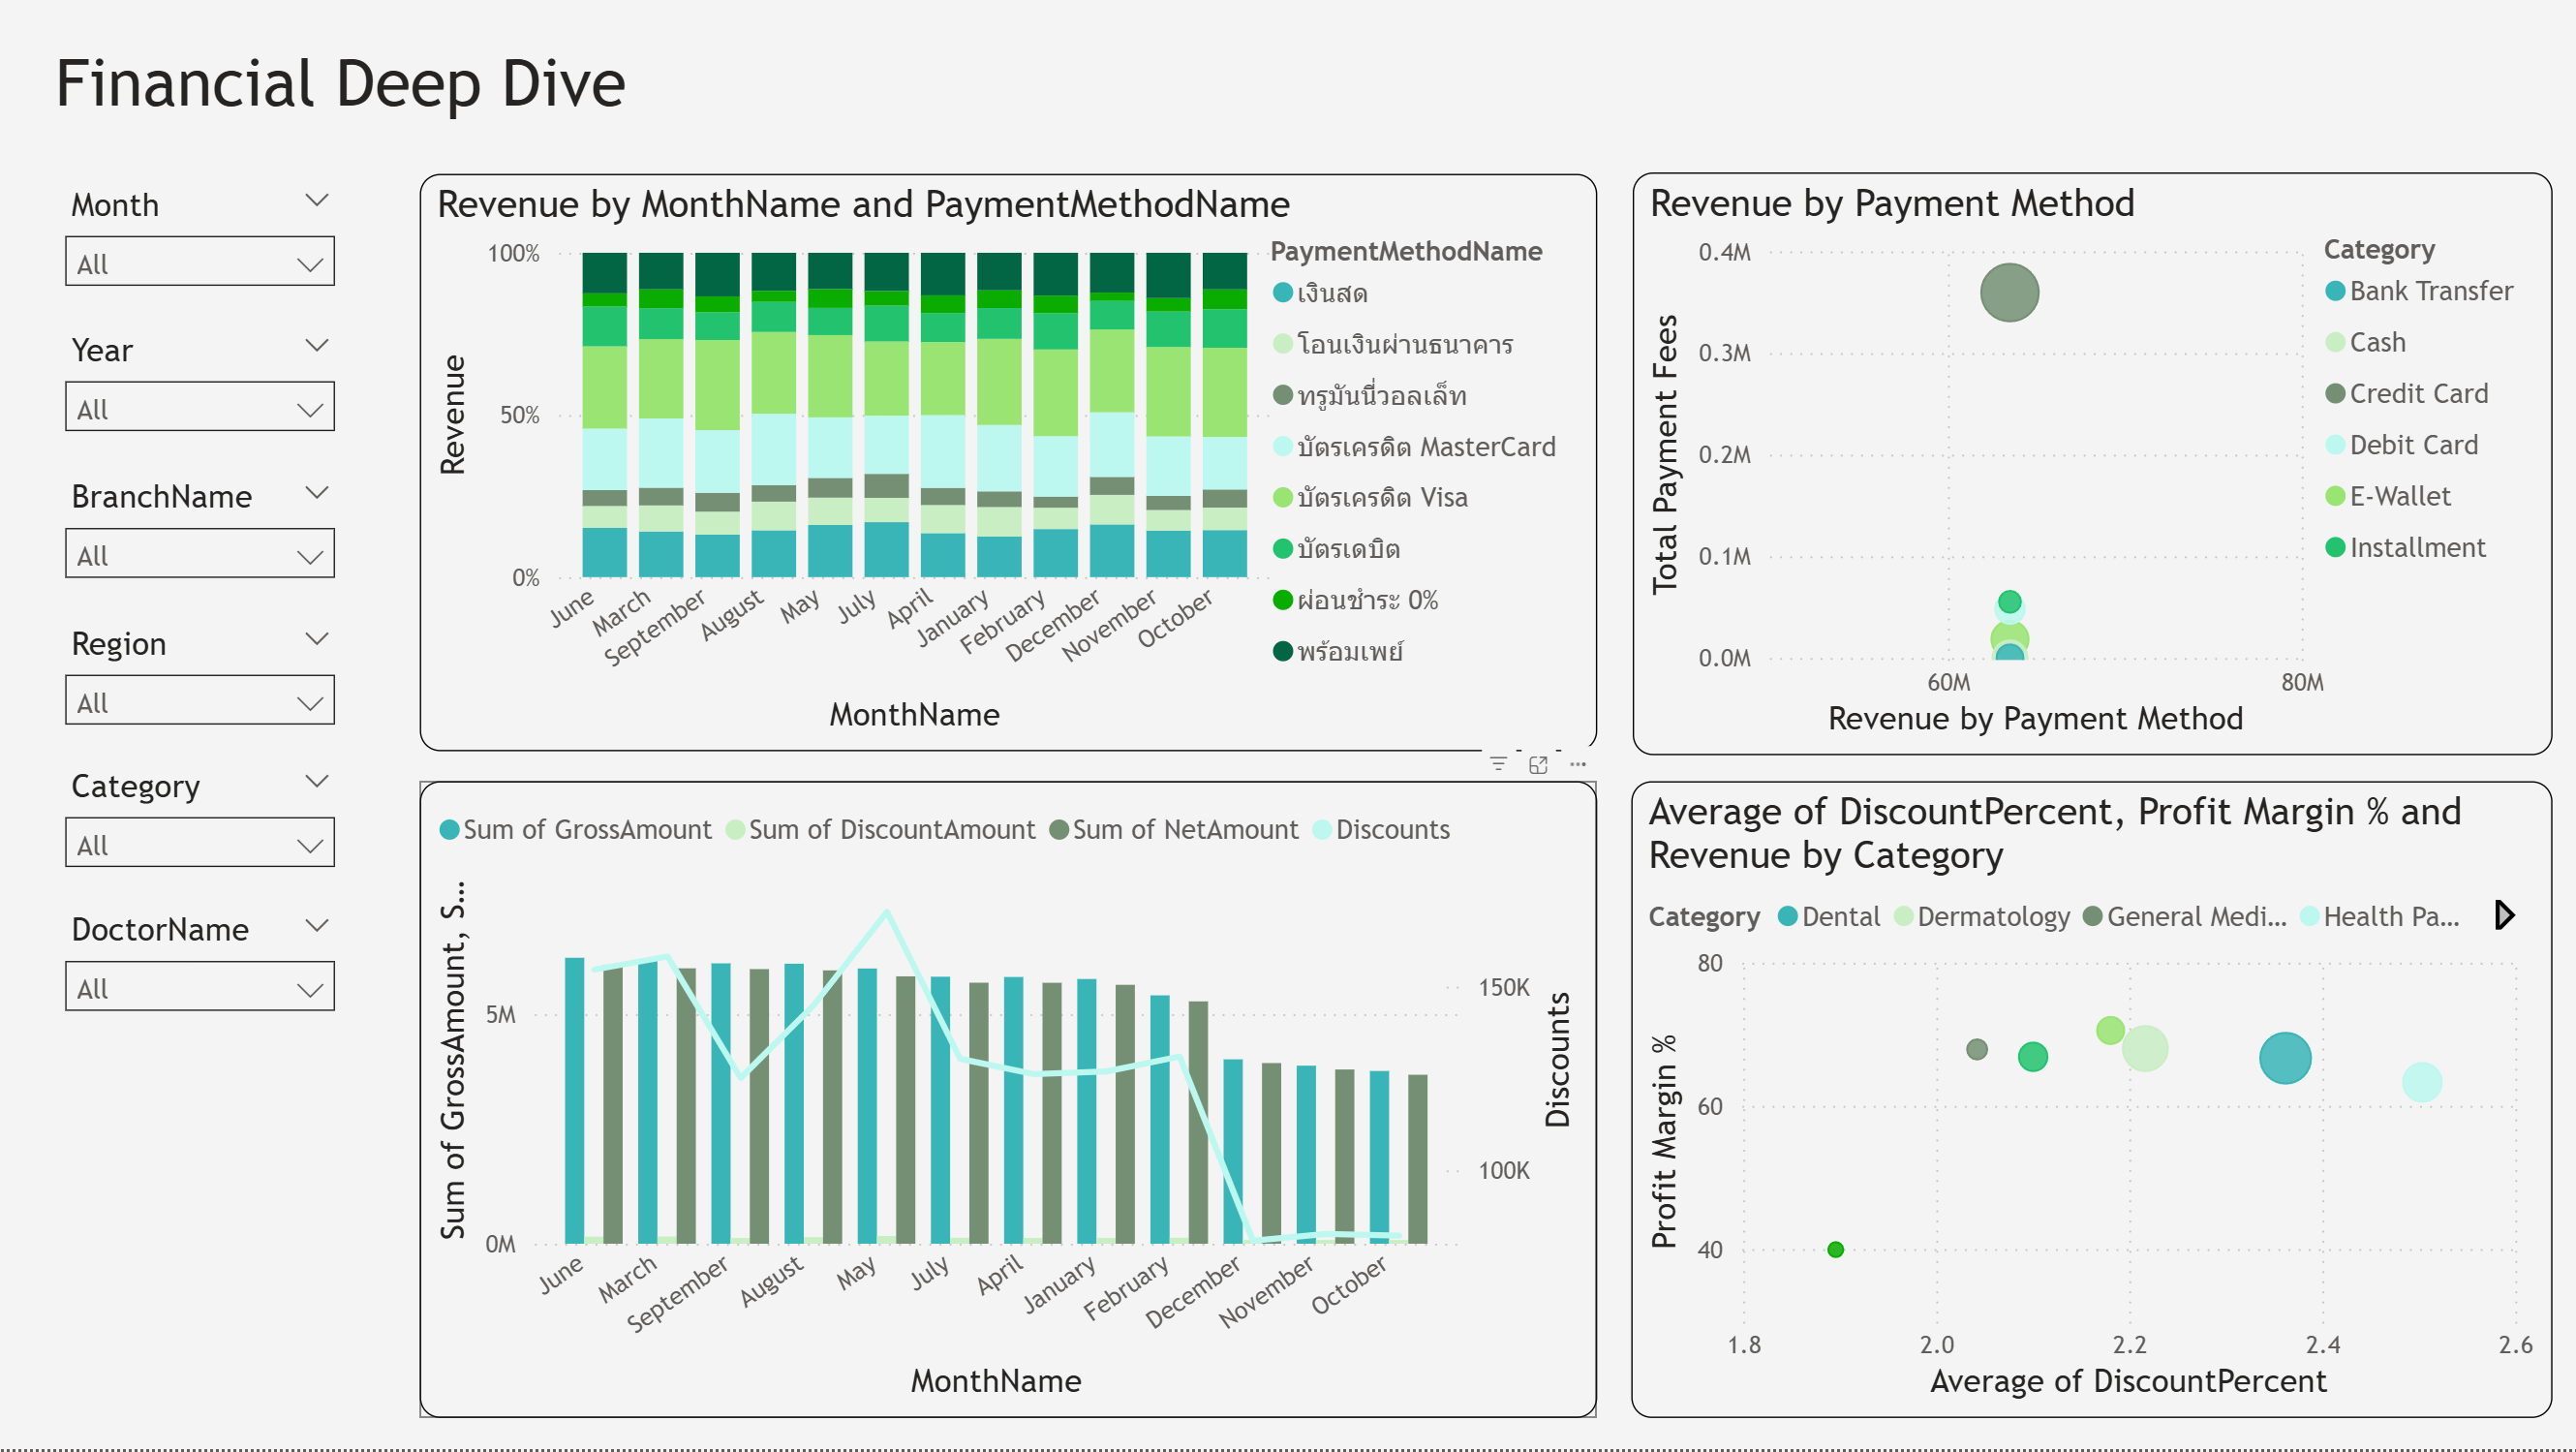

What the dashboard file says about the page in this screenshot:
{"tool":"powerbi","page":{"name":"Financial Deep Dive","canvas":[1280,720],"ordinal":2},"visuals":[{"type":"slicer","fields":{"Values":["DimDate.Month"]},"box":[26.6,89.8,153.5,72],"z":0,"group":"g1"},{"type":"textbox","box":[26.6,20.6,324.2,54.6],"z":1000},{"type":"slicer","fields":{"Values":["DimDate.Year"]},"box":[26.6,161.8,153.5,72],"z":1000,"group":"g1"},{"type":"hundredPercentStackedColumnChart","fields":{"Category":["DimDate.MonthName"],"Y":["FactBillingDetail.Revenue"],"Series":["DimPaymentMethod.PaymentMethodName"]},"box":[211.6,89.8,581.8,285.3],"z":2000},{"type":"slicer","fields":{"Values":["DimBranch.BranchName"]},"box":[26.6,233.9,153.5,72.8],"z":2000,"group":"g1"},{"type":"lineClusteredColumnComboChart","fields":{"Category":["DimDate.MonthName"],"Y":["FactBillingDetail.GrossAmount","FactBillingDetail.DiscountAmount","FactBillingDetail.NetAmount"],"Y2":["FactBillingDetail.Discounts"]},"box":[211.7,389.6,582,314.6],"z":2001},{"type":"scatterChart","fields":{"X":["FactBillingDetail.DiscountPercent"],"Y":["FactBillingDetail.Profit Margin %"],"Size":["FactBillingDetail.Revenue"],"Series":["DimService.Category"]},"box":[811,389.6,455.3,314.6],"z":2002},{"type":"scatterChart","title":"Revenue by Payment Method","fields":{"X":["FactBillingDetail.Revenue by Payment Method"],"Size":["FactBillingDetail.Transaction Count"],"Series":["DimPaymentMethod.Category"],"Y":["FactBillingDetail.Total Payment Fees"]},"box":[811.3,89.1,455,287.9],"z":2003},{"type":"group","id":"g1","title":"Group 1","box":[26.6,89.8,153.7,428.7],"z":2004},{"type":"slicer","fields":{"Values":["DimBranch.Region"]},"box":[26.6,306.7,153.5,70.6],"z":3000,"group":"g1"},{"type":"slicer","fields":{"Values":["DimService.Category"]},"box":[26.6,377.3,153.5,70.6],"z":4000,"group":"g1"},{"type":"slicer","fields":{"Values":["DimDoctor.DoctorName"]},"box":[26.6,447.9,153.5,70.6],"z":5000,"group":"g1"}]}

Visuals, with their boxes in screenshot pixels (x1, y1, x2, y2), scaled from the page's 1280x720 canvas onto the 2576x1452 screenshot:
slicer - DimDate.Month: bbox=[53, 181, 362, 326]
textbox: bbox=[53, 42, 706, 152]
slicer - DimDate.Year: bbox=[53, 326, 362, 472]
hundredPercentStackedColumnChart - DimDate.MonthName x FactBillingDetail.Revenue: bbox=[426, 181, 1597, 757]
slicer - DimBranch.BranchName: bbox=[53, 472, 362, 619]
lineClusteredColumnComboChart - DimDate.MonthName x FactBillingDetail.GrossAmount: bbox=[426, 786, 1597, 1420]
scatterChart - FactBillingDetail.DiscountPercent x FactBillingDetail.Profit Margin %: bbox=[1632, 786, 2549, 1420]
"Revenue by Payment Method" scatterChart: bbox=[1633, 180, 2549, 760]
"Group 1" group: bbox=[53, 181, 363, 1045]
slicer - DimBranch.Region: bbox=[53, 619, 362, 761]
slicer - DimService.Category: bbox=[53, 761, 362, 904]
slicer - DimDoctor.DoctorName: bbox=[53, 904, 362, 1045]
